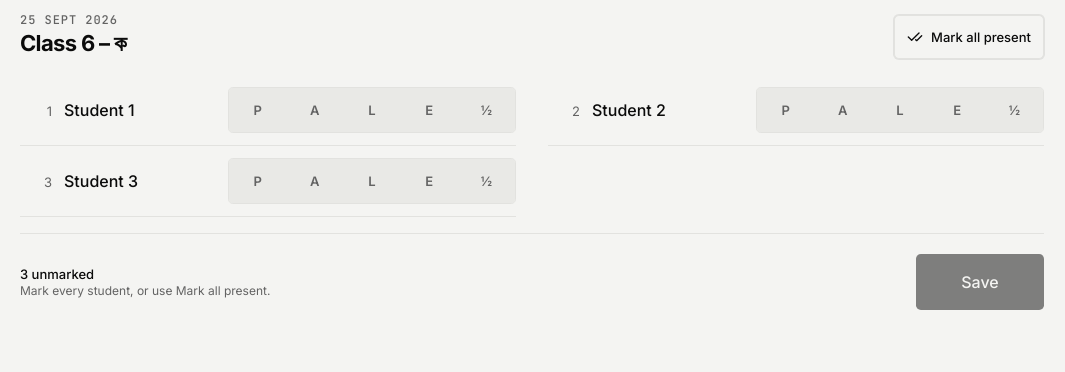
Test case: RollCall offline (F-ID-11 Part 2a) › says so when the phone's waiting list is full, and keeps the marks
What coordinates should you click on to do the following:
click the button "Mark all present"
I would click on:
 (969, 37)
Its box is [894, 15, 1044, 59].
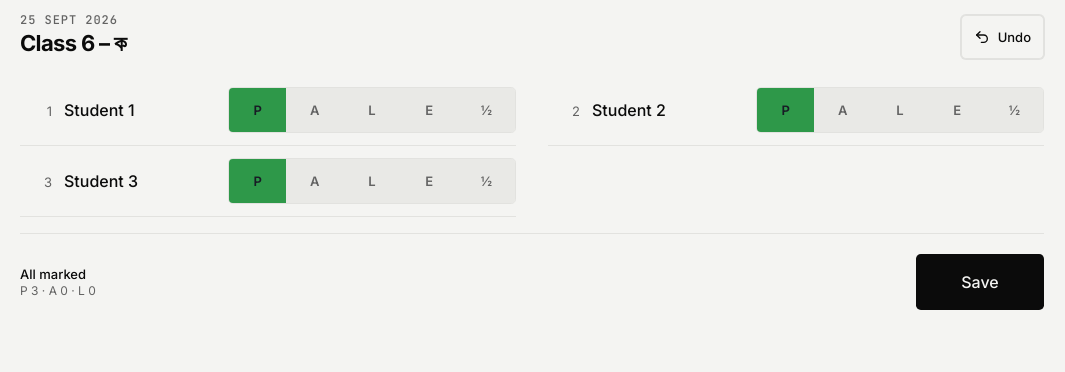
What coordinates should you click on to do the following:
click the button "Save"
I would click on:
 (980, 282)
Its box is [916, 254, 1044, 310].
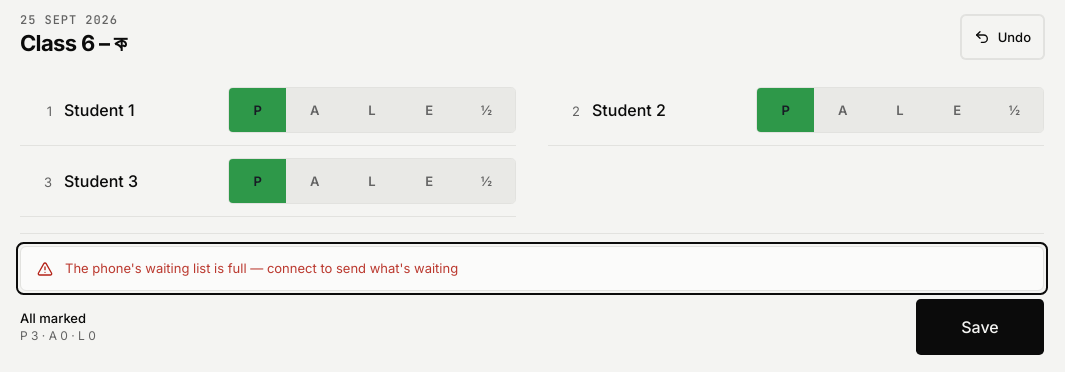
Check: the text "The phone's waiting list is full — connect to send what's waiting" is shown, box [65, 260, 458, 276]
